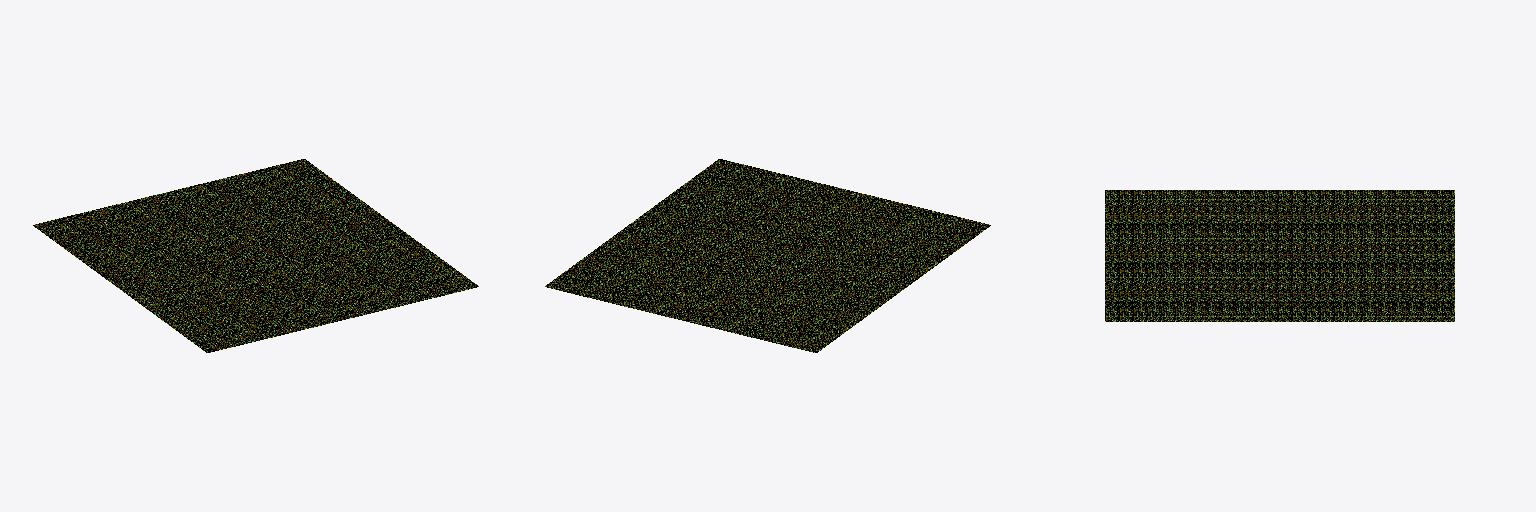
3 renders of one model, left to right at view 1: azimuth 30°, elevation 25°; view 2: azimuth 150°, elevation 25°; view 3: azimuth 270°, elevation 25°, orthographic.
Visible parts, largest first — view 1: Quad_0; view 2: Quad_0; view 3: Quad_0.
Part boxes in pixels (left/top/right/bottom): Quad_0: left=33, top=159, right=478, bottom=352; Quad_0: left=545, top=159, right=990, bottom=352; Quad_0: left=1105, top=190, right=1454, bottom=321.
Size of the model in its own units: 49.09 by 0 by 54.71.
Materials: 1 (1 with a texture image).